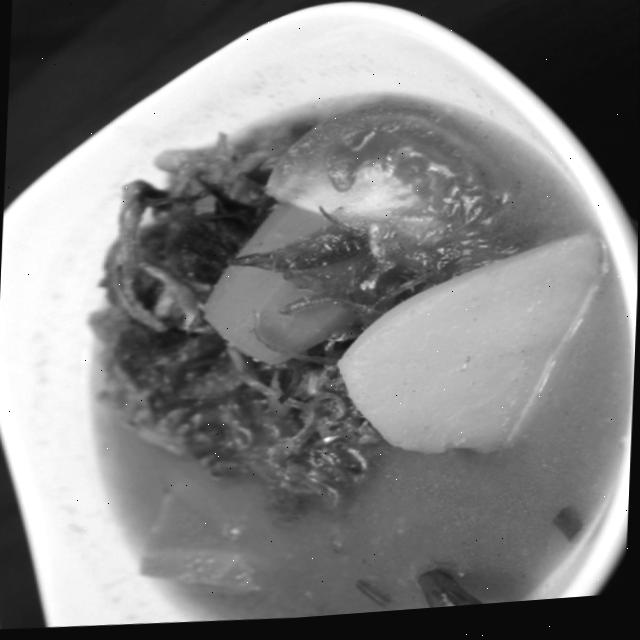汤锅炖物: (0, 5, 624, 634)
